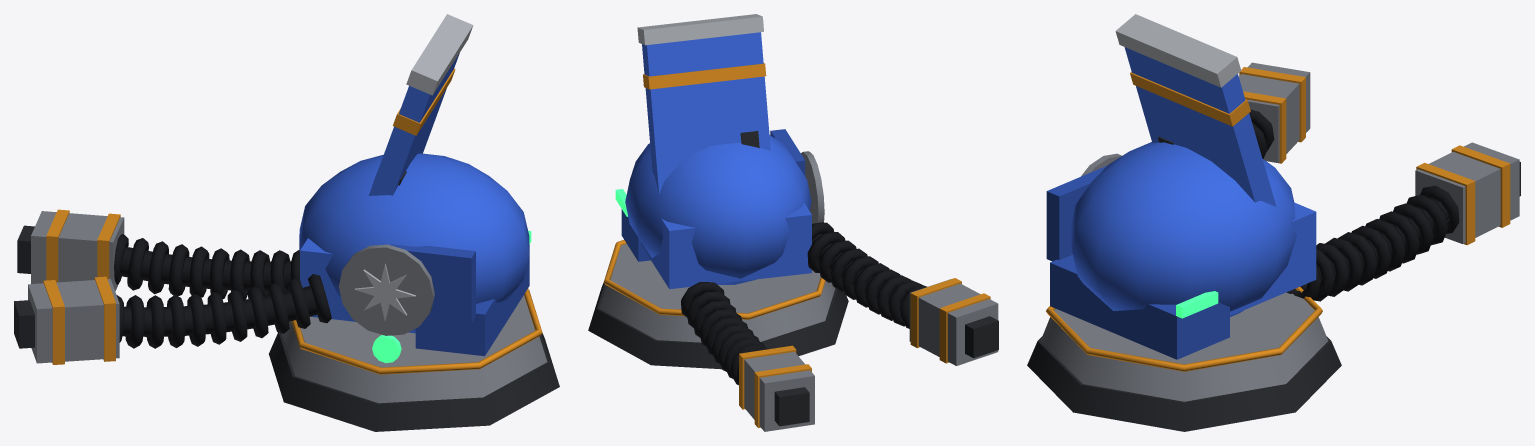
The model's file is techlab_barracks.glb.
The picture shows the model from 3 angles, left to right: view 1: azimuth 30°, elevation 25°; view 2: azimuth 150°, elevation 25°; view 3: azimuth 270°, elevation 25°; orthographic projection. The views are drawn at different scales.
Bounding box in the file's own units: 2.81 × 1.79 × 2.37.
